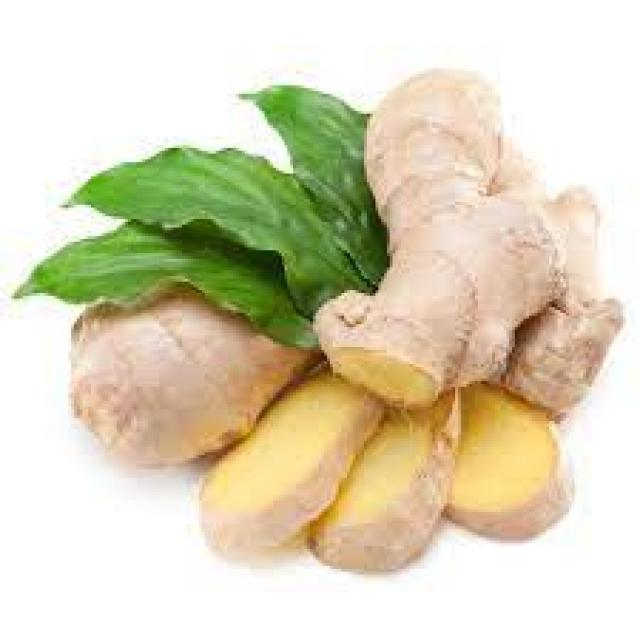ginger: (30, 68, 623, 576)
